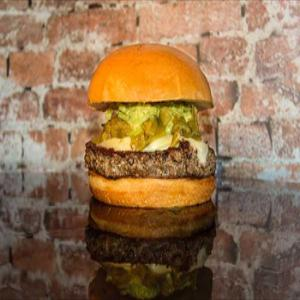cheeseburger_475cal: (78, 41, 224, 237)
